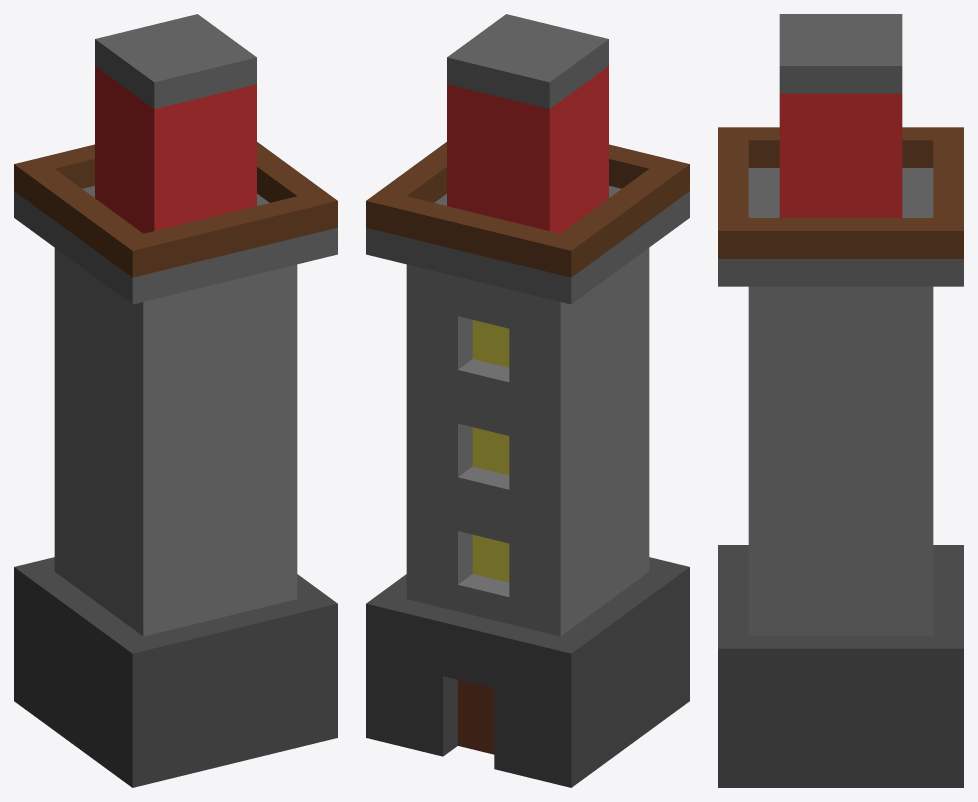
Rendered from Lighthouse_Red.obj.
3 views of the same model, side by side, from view 1: azimuth 30°, elevation 25°; view 2: azimuth 150°, elevation 25°; view 3: azimuth 270°, elevation 25° (orthographic). The views are drawn at different scales.
Parts seen in each view (by area): view 1: Lighthouse_Red; view 2: Lighthouse_Red; view 3: Lighthouse_Red.
Part boxes in pixels (box(x1,y1,x2,y2)): Lighthouse_Red: box(14, 14, 337, 787); Lighthouse_Red: box(366, 14, 689, 787); Lighthouse_Red: box(718, 14, 963, 787).
Size of the model in its own units: 8 by 25 by 8.
Materials: 1 (1 with a texture image).
